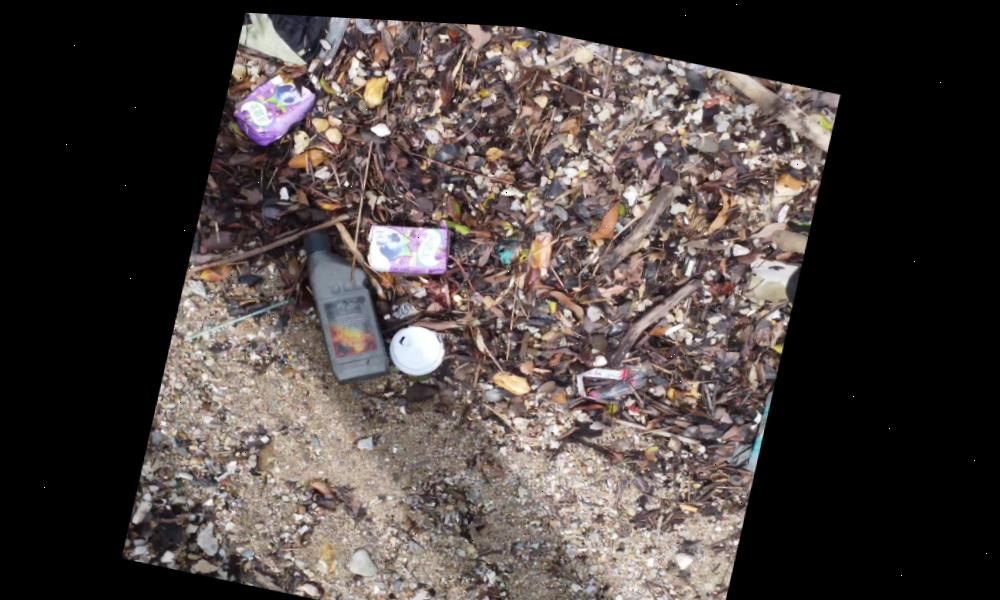carton: (219, 55, 328, 153), (356, 202, 463, 290)
plastic bottle: (263, 207, 422, 381), (747, 352, 783, 471)
plastic container: (386, 311, 456, 373)
